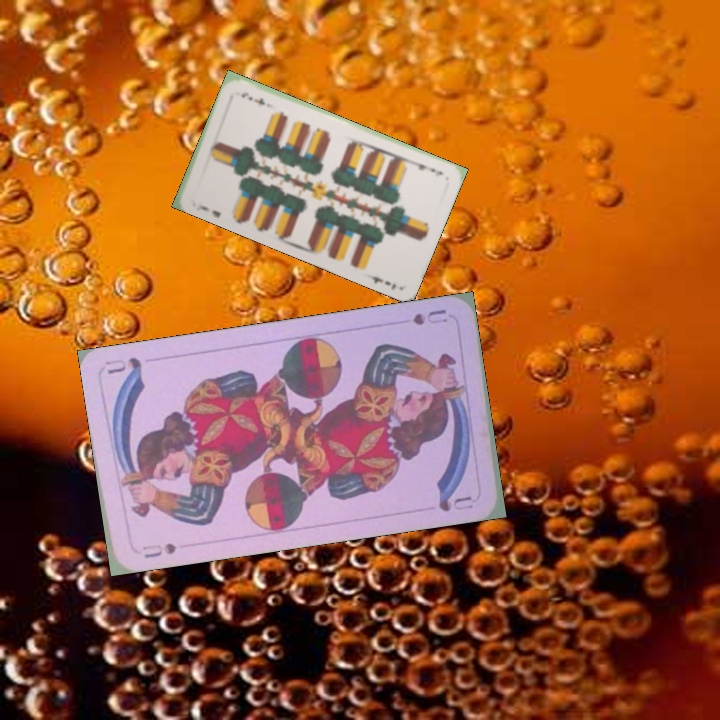E7: (409, 157, 445, 179), (193, 201, 223, 220)
SU: (408, 305, 450, 328), (140, 539, 179, 561)
